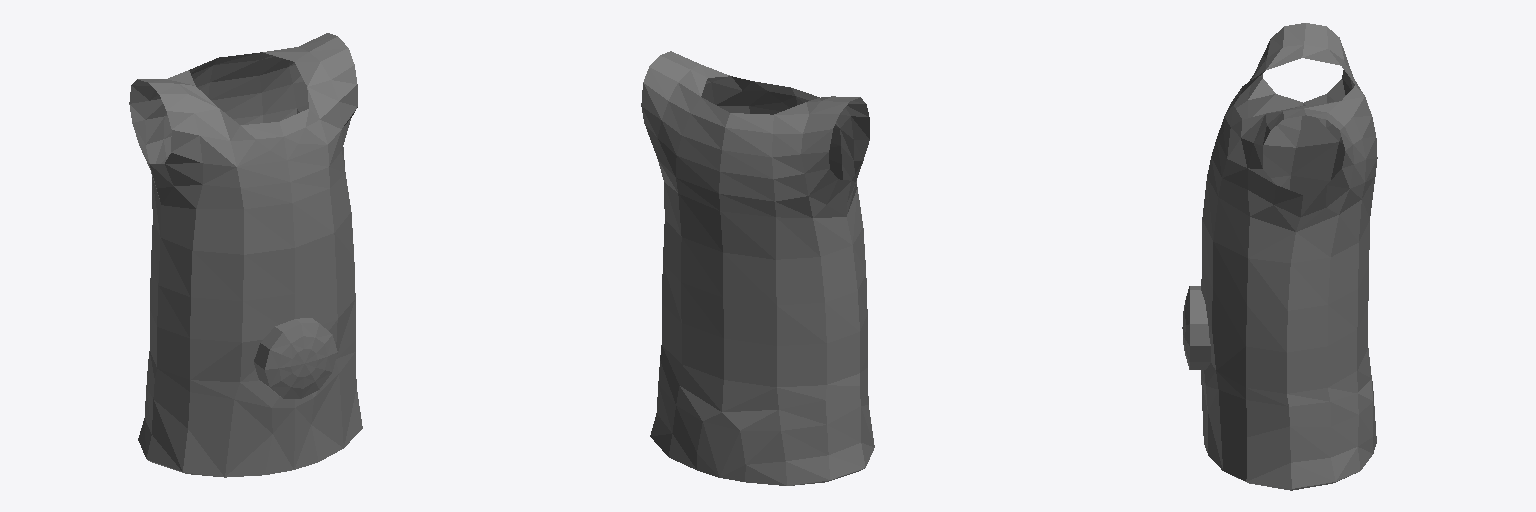
Rendered from cuerpo.obj.
3 renders of one model, left to right at view 1: azimuth 30°, elevation 25°; view 2: azimuth 150°, elevation 25°; view 3: azimuth 270°, elevation 25°, orthographic.
Visible parts, largest first — view 1: cuerpo; view 2: cuerpo; view 3: cuerpo.
Part boxes in pixels (x1,y1,x2,y2): cuerpo: (129,33,362,477); cuerpo: (641,51,874,485); cuerpo: (1182,23,1377,490).
Size of the model in its own units: 1.47 by 2.52 by 1.19.